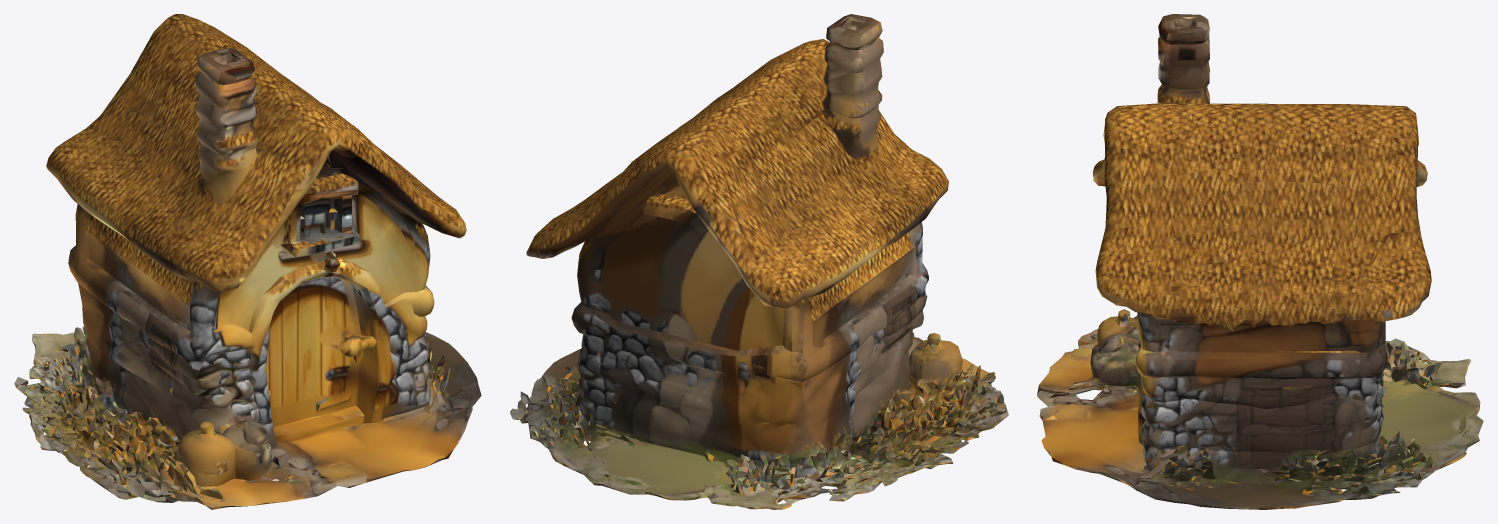
The model's file is house.glb.
3 renders of one model, left to right at view 1: azimuth 30°, elevation 25°; view 2: azimuth 150°, elevation 25°; view 3: azimuth 270°, elevation 25°, orthographic. The views are drawn at different scales.
Visible parts, largest first — view 1: Body; view 2: Body; view 3: Body.
Boxes of the visible parts, <box> form: Body: <box>14,14,481,509</box>; Body: <box>510,14,1008,509</box>; Body: <box>1037,14,1483,509</box>.
Bounding box in the file's own units: 4.41 × 4 × 4.36.
Materials: 1 (1 with a texture image).
